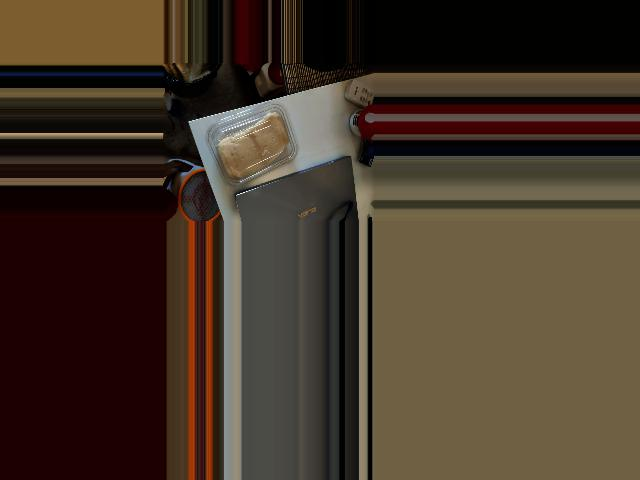cheese: (200, 103, 301, 187)
